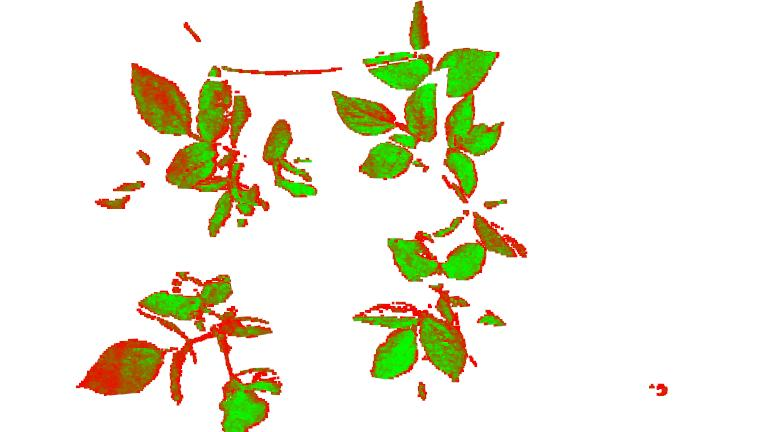mungbean: (333, 2, 532, 258), (124, 64, 317, 239), (79, 271, 282, 432), (354, 236, 507, 382)
